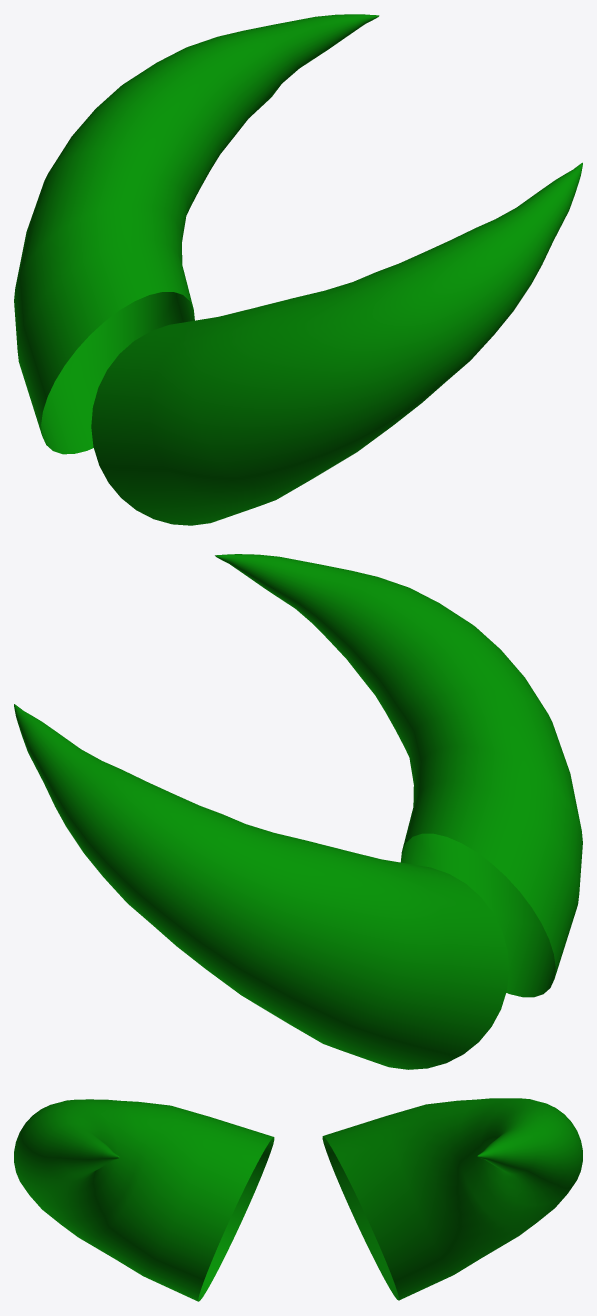
The model's file is Envy_Horns.fbx.
3 views of the same model, one above another, from view 1: azimuth 30°, elevation 25°; view 2: azimuth 150°, elevation 25°; view 3: azimuth 270°, elevation 25° (orthographic). The views are drawn at different scales.
Parts seen in each view (by area): view 1: Circle; view 2: Circle; view 3: Circle.
Boxes of the visible parts, left/top/right/bottom form: Circle: left=14, top=14, right=582, bottom=525; Circle: left=14, top=554, right=582, bottom=1069; Circle: left=14, top=1098, right=582, bottom=1301.
Size of the model in its own units: 26.16 by 19.04 by 34.93.
